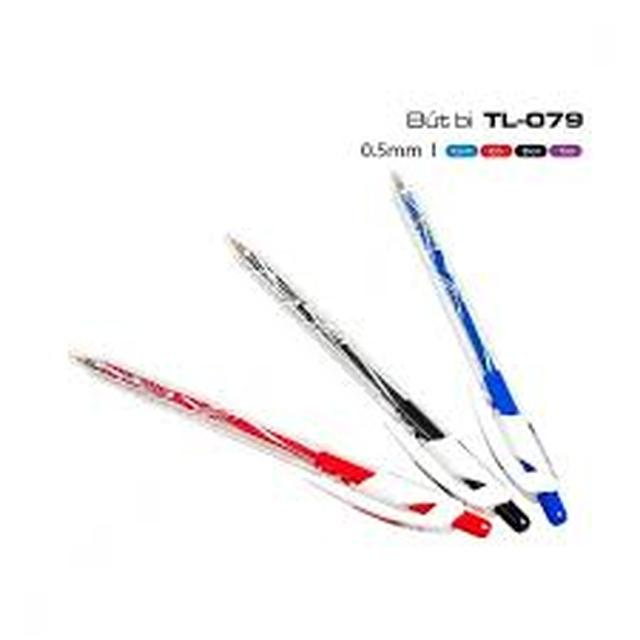pen: (71, 106, 603, 613), (192, 190, 542, 532), (340, 112, 586, 554), (53, 349, 501, 581)
